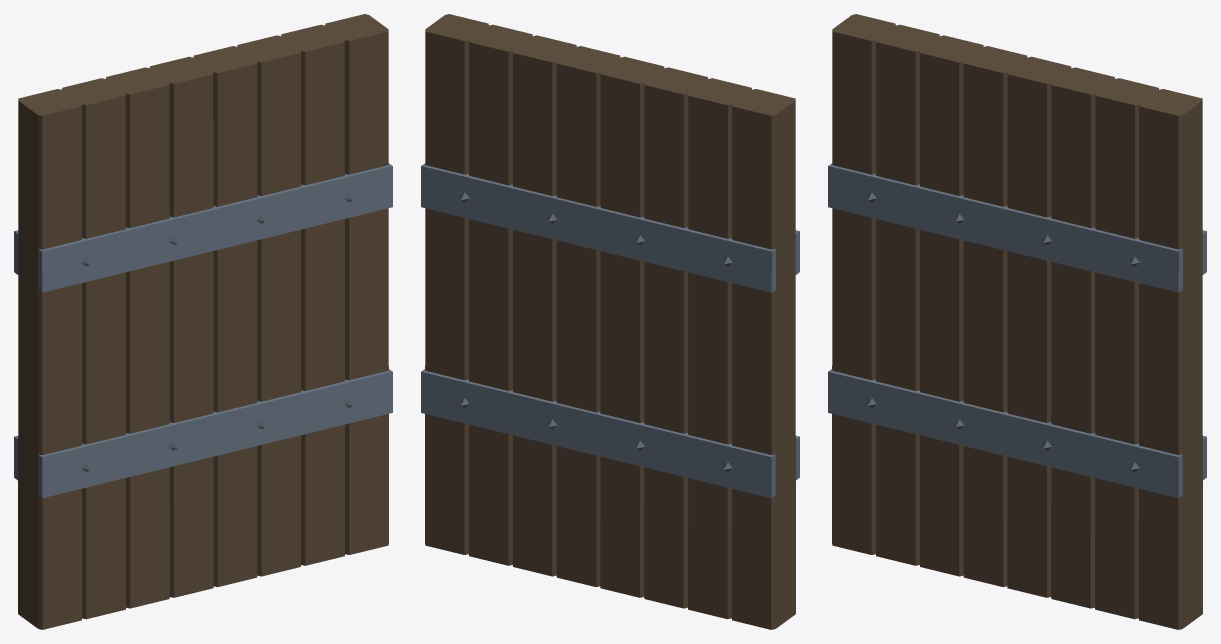
Rendered from gatedoors.fbx.
3 views of the same model, side by side, from view 1: azimuth 30°, elevation 25°; view 2: azimuth 150°, elevation 25°; view 3: azimuth 330°, elevation 25° (orthographic).
Visible parts, largest first — view 1: Door_L, Door_R; view 2: Door_L, Door_R; view 3: Door_R, Door_L.
Boxes of the visible parts, x1=… form: Door_L: x1=14, y1=56, x2=217, y2=629; Door_R: x1=193, y1=14, x2=392, y2=587; Door_L: x1=596, y1=56, x2=799, y2=629; Door_R: x1=421, y1=14, x2=620, y2=587; Door_R: x1=1003, y1=56, x2=1206, y2=629; Door_L: x1=828, y1=14, x2=1027, y2=587.
Bounding box in the file's own units: 2.5 × 3.5 × 0.4478.
